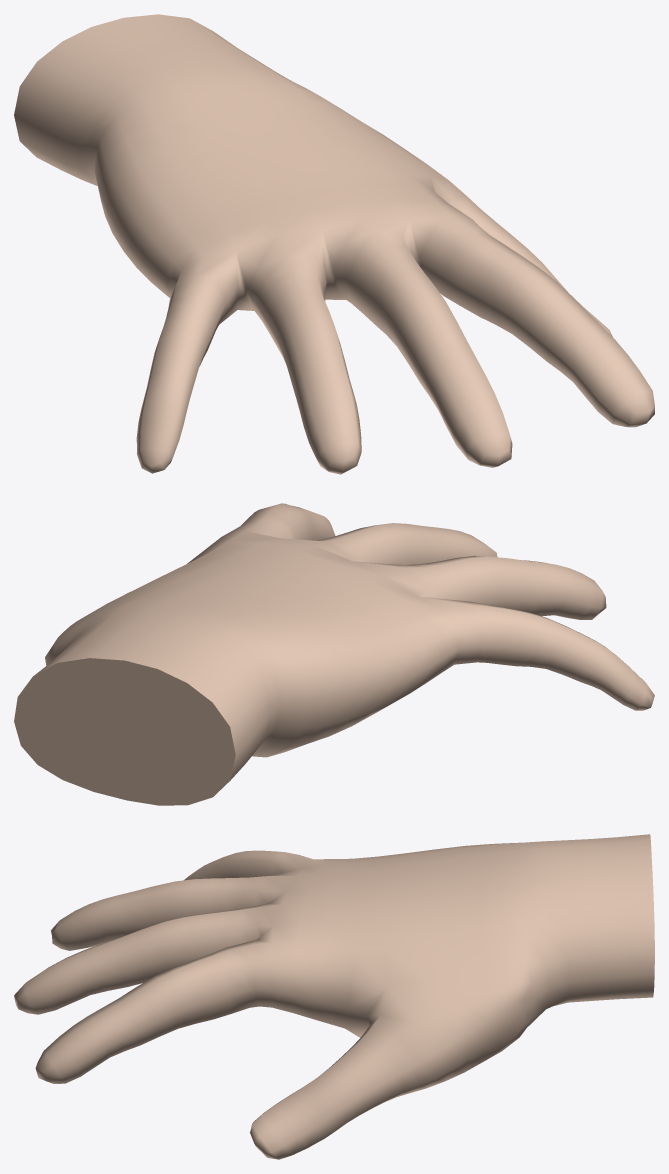
File: ManoLP.fbx
The picture shows the model from 3 angles, top to bottom: view 1: azimuth 30°, elevation 25°; view 2: azimuth 150°, elevation 25°; view 3: azimuth 270°, elevation 25°; orthographic projection. The views are drawn at different scales.
Parts seen in each view (by area): view 1: AnatomyHandHumanMale1:hand_basemesh; view 2: AnatomyHandHumanMale1:hand_basemesh; view 3: AnatomyHandHumanMale1:hand_basemesh.
Part boxes in pixels (left/top/right/bottom): AnatomyHandHumanMale1:hand_basemesh: left=14, top=14, right=654, bottom=474; AnatomyHandHumanMale1:hand_basemesh: left=14, top=503, right=654, bottom=805; AnatomyHandHumanMale1:hand_basemesh: left=14, top=834, right=654, bottom=1159.
Bounding box in the file's own units: 17.68 × 7.72 × 22.
